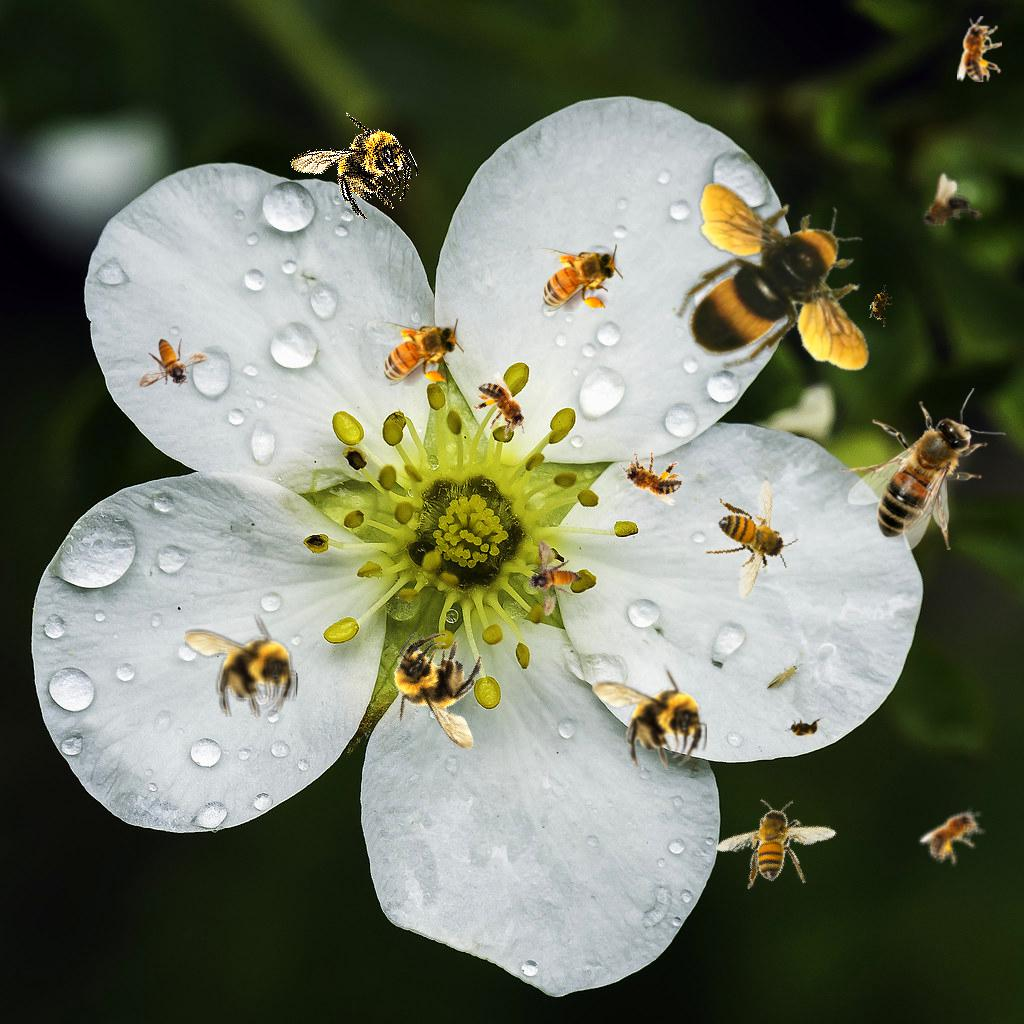Bee: (642, 157, 920, 420), (839, 388, 1006, 550), (363, 614, 520, 769), (279, 94, 430, 241), (706, 774, 851, 914), (691, 475, 810, 607), (183, 612, 298, 719), (592, 663, 707, 770), (906, 169, 989, 251), (371, 318, 464, 386), (530, 244, 623, 312), (916, 795, 996, 874), (463, 370, 543, 449), (516, 538, 588, 623), (611, 444, 689, 507), (138, 338, 209, 388), (957, 16, 1002, 82), (864, 282, 898, 328), (784, 717, 824, 739)
